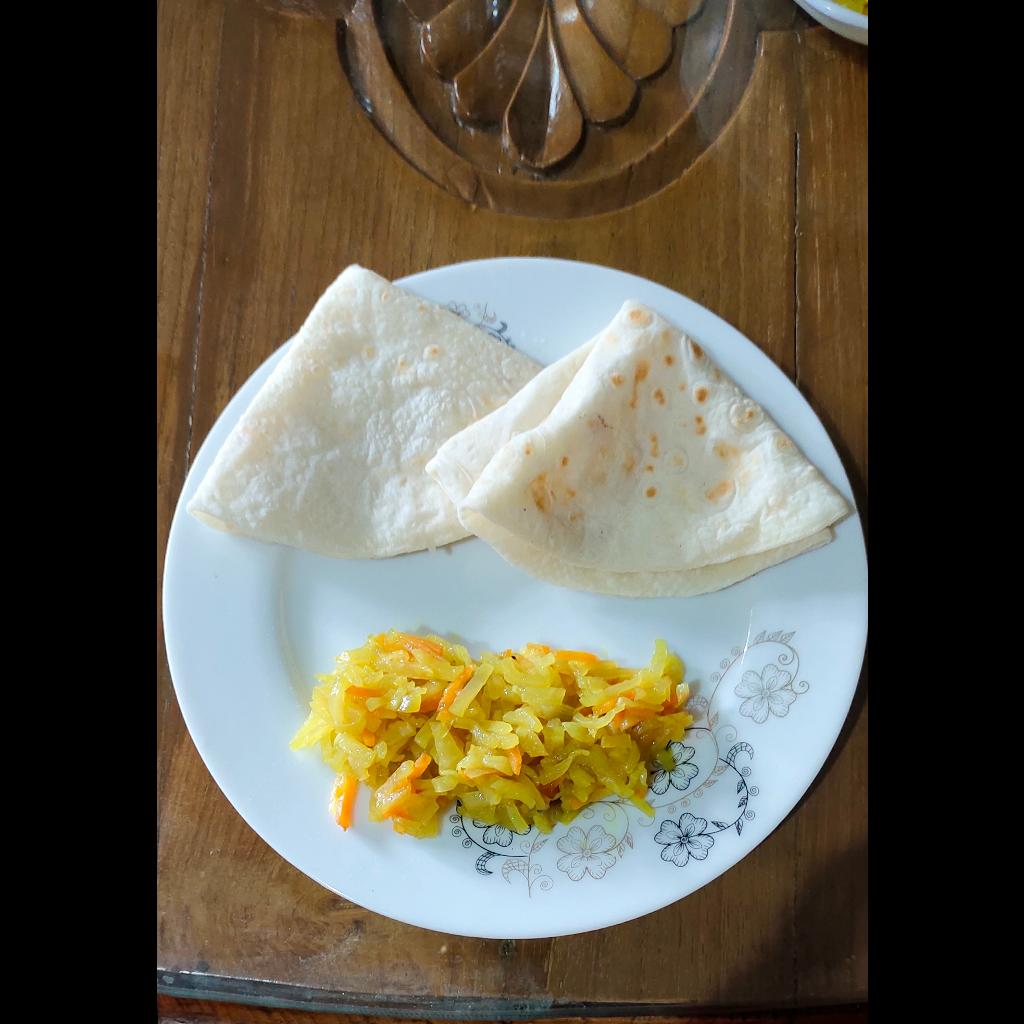ruti: (179, 263, 854, 601)
vaji: (292, 622, 687, 841)
